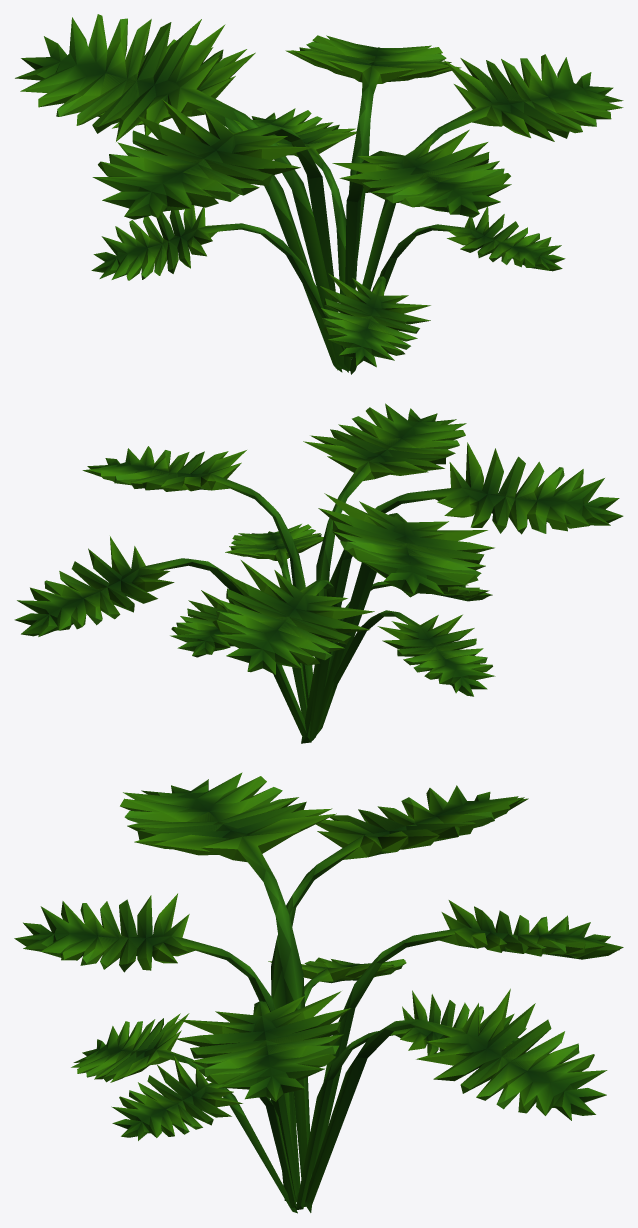
File: fern_bush.glb
3 views of the same model, one above another, from view 1: azimuth 30°, elevation 25°; view 2: azimuth 150°, elevation 25°; view 3: azimuth 270°, elevation 25° (orthographic). The views are drawn at different scales.
Parts seen in each view (by area): view 1: Fern_4, Fern_7, Fern_1, Fern, Fern_2, Fern_5, Fern_8, Fern_9, Fern_6, Fern_3; view 2: Fern_6, Fern_4, Fern_7, Fern_5, Fern, Fern_1, Fern_2, Fern_3, Fern_9, Fern_8; view 3: Fern_7, Fern_5, Fern_1, Fern_4, Fern, Fern_6, Fern_9, Fern_8, Fern_3, Fern_2.
Boxes of the visible parts, x1,y1,x2,y2 form: Fern_4: [15, 14, 347, 371]; Fern_7: [92, 99, 337, 370]; Fern_1: [362, 54, 623, 290]; Fern: [332, 129, 511, 370]; Fern_2: [91, 205, 352, 359]; Fern_5: [285, 35, 461, 257]; Fern_8: [320, 273, 430, 374]; Fern_9: [349, 206, 565, 370]; Fern_6: [97, 39, 342, 372]; Fern_3: [233, 108, 356, 372]; Fern_6: [212, 560, 374, 742]; Fern_4: [316, 493, 494, 735]; Fern_7: [301, 442, 623, 743]; Fern_5: [14, 536, 306, 738]; Fern: [303, 403, 466, 657]; Fern_1: [82, 446, 312, 705]; Fern_2: [332, 610, 495, 696]; Fern_3: [170, 590, 306, 719]; Fern_9: [225, 524, 323, 709]; Fern_8: [324, 581, 492, 687]; Fern_7: [120, 772, 336, 1212]; Fern_5: [304, 988, 607, 1205]; Fern_1: [175, 991, 350, 1198]; Fern_4: [271, 785, 528, 1201]; Fern: [14, 893, 291, 1200]; Fern_6: [304, 900, 623, 1206]; Fern_9: [111, 1055, 296, 1208]; Fern_8: [71, 1013, 297, 1213]; Fern_3: [296, 990, 526, 1209]; Fern_2: [268, 957, 406, 1126].
Size of the model in its own units: 2057 by 1183 by 1919.
Materials: 1 (1 with a texture image).
